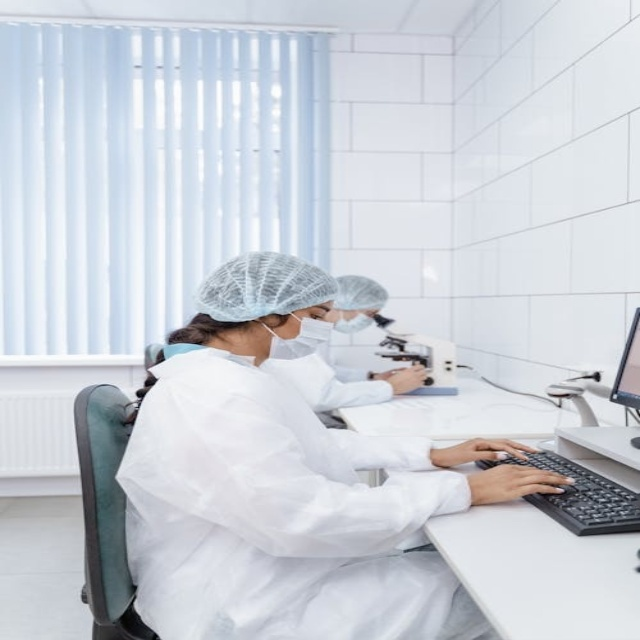Mascara: (256, 316, 337, 361), (337, 308, 375, 335)
Sin_gafas: (301, 305, 335, 321)
Sin_guantes: (468, 462, 576, 505), (437, 435, 545, 468)
